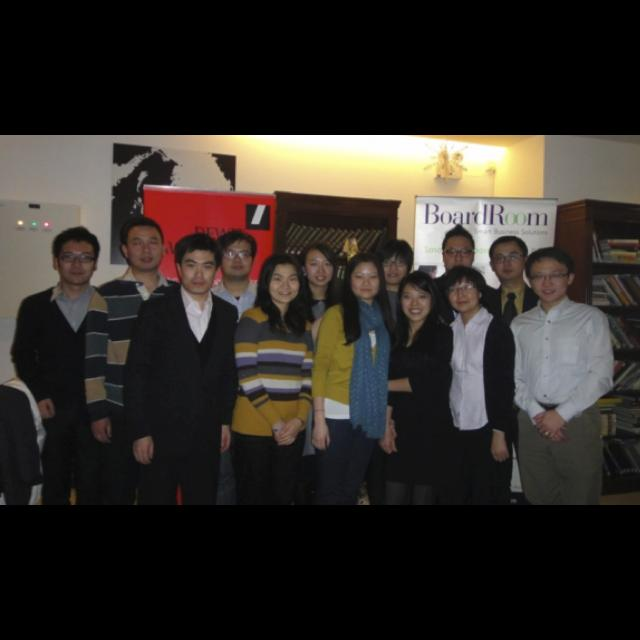head: (51, 226, 100, 286), (526, 247, 576, 303), (120, 218, 166, 272), (177, 238, 219, 294), (263, 253, 305, 304), (444, 266, 484, 314), (399, 272, 436, 322), (489, 236, 531, 280), (218, 232, 256, 280), (348, 252, 384, 300), (301, 242, 337, 288), (442, 228, 476, 276), (376, 239, 410, 285)
person: (356, 237, 428, 505)
